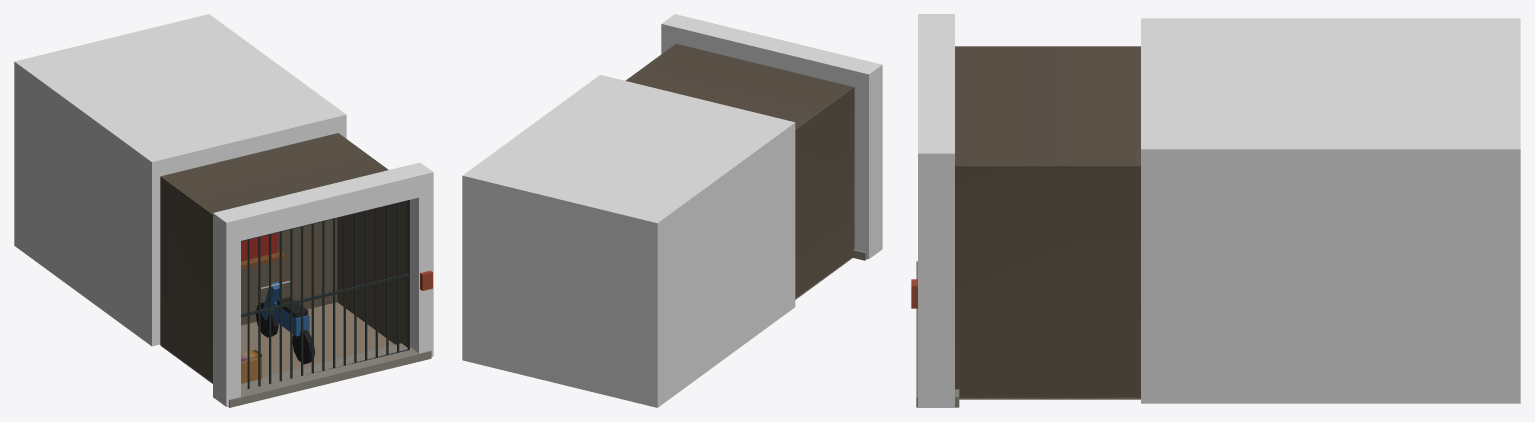
The model's file is tret_nha_o_40.glb.
3 renders of one model, left to right at view 1: azimuth 30°, elevation 25°; view 2: azimuth 150°, elevation 25°; view 3: azimuth 270°, elevation 25°, orthographic. The views are drawn at different scales.
Visible parts, largest first — view 1: tret_nha_o_40; view 2: tret_nha_o_40; view 3: tret_nha_o_40.
Boxes of the visible parts, bbox=[...] form: tret_nha_o_40: bbox=[14, 14, 433, 407]; tret_nha_o_40: bbox=[462, 14, 882, 407]; tret_nha_o_40: bbox=[911, 14, 1520, 407].
Size of the model in its own units: 4 by 3.42 by 7.38.
